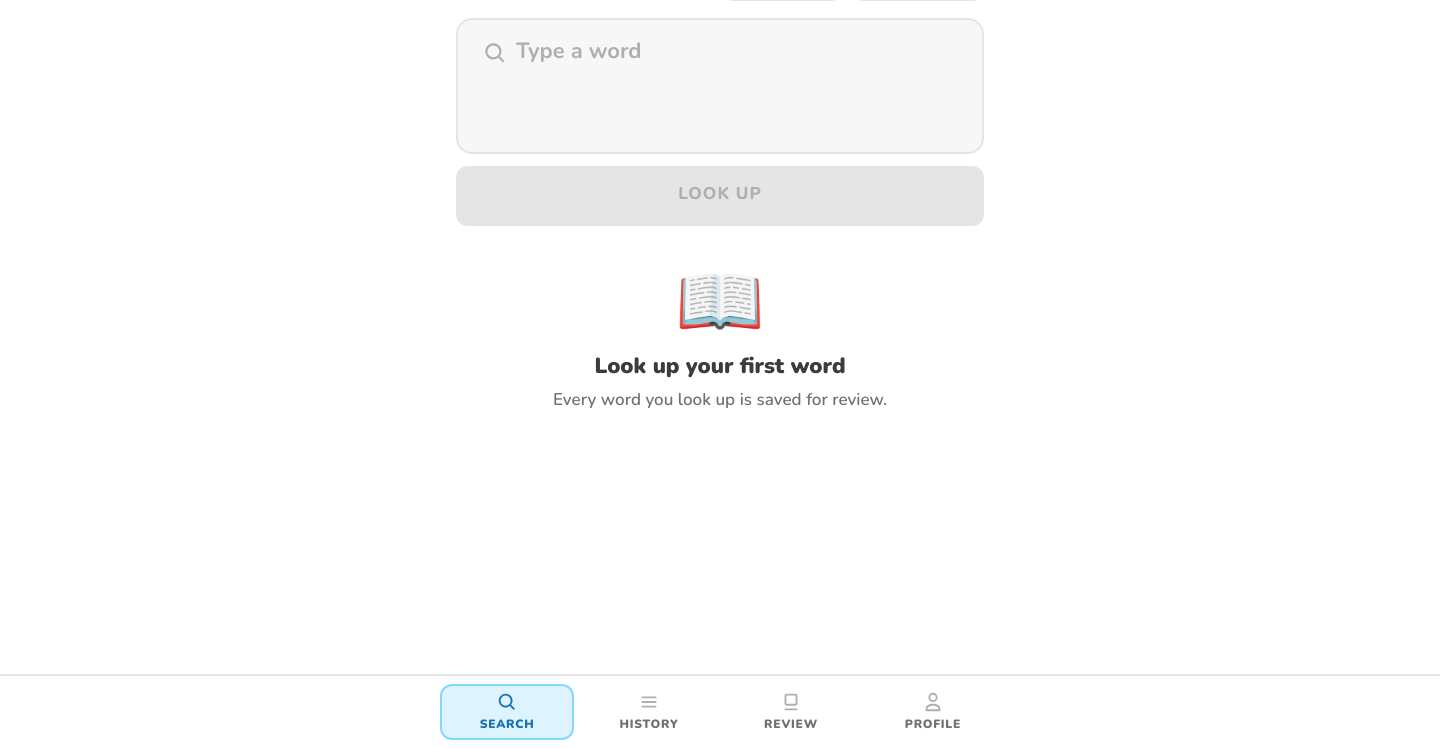
Test: Lexi › shows the dictionary example sentences and copies one into My sentence
In the text box named "Look up an English word": (737, 86) 516,36 -> 958,136, type "calm"
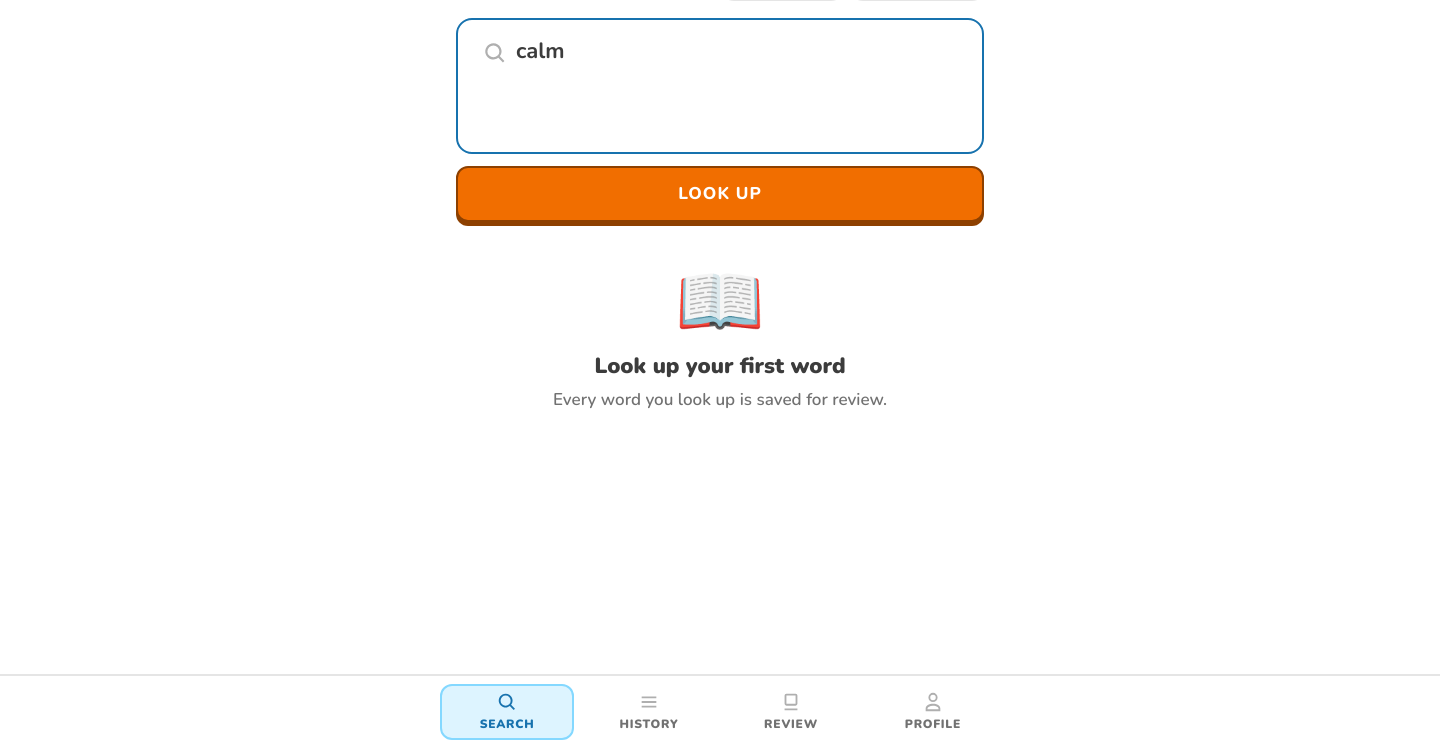
Click the button "Look up": (720, 194) 456,166 -> 984,222
(page scrolled)
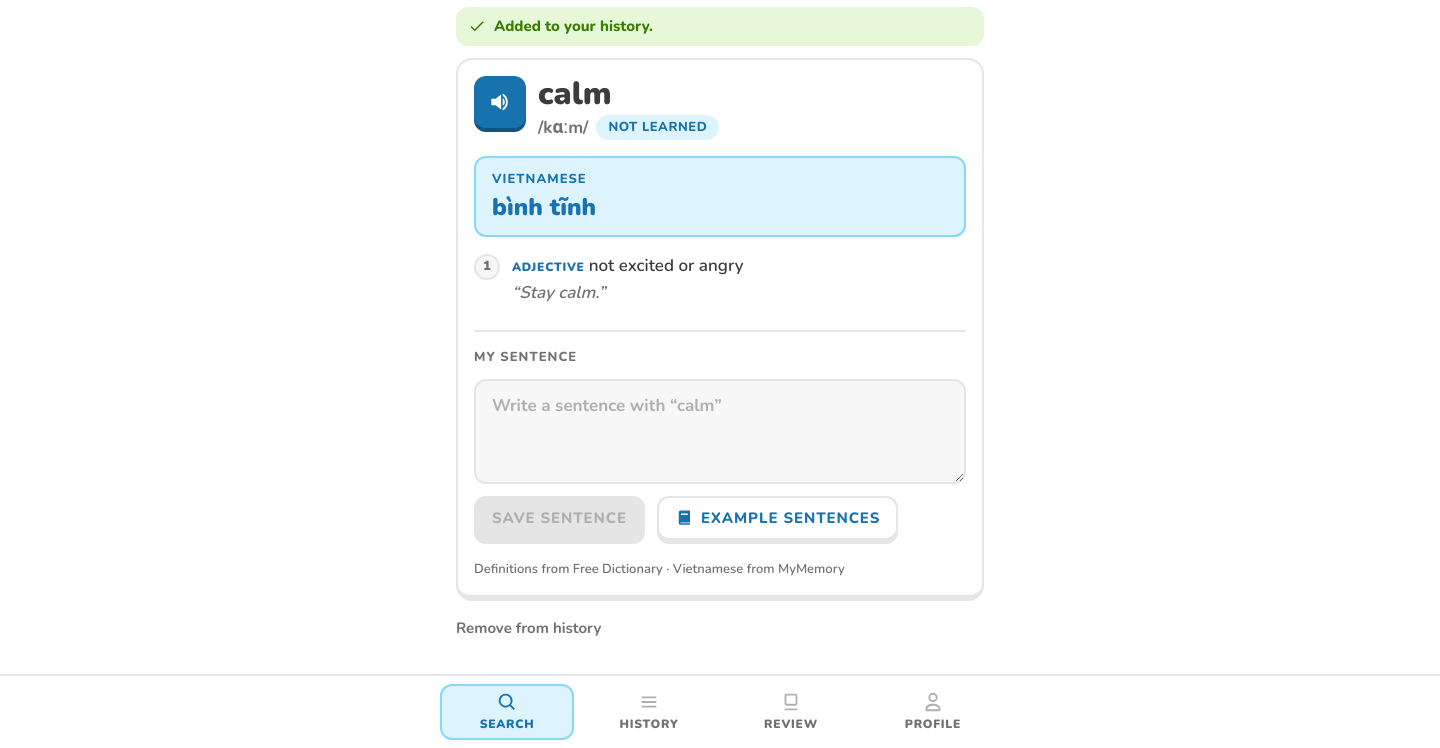
expect the heading "calm" is shown: met, box 538,72 -> 612,114
Click the button "Example sentences": (778, 518) 657,496 -> 898,540
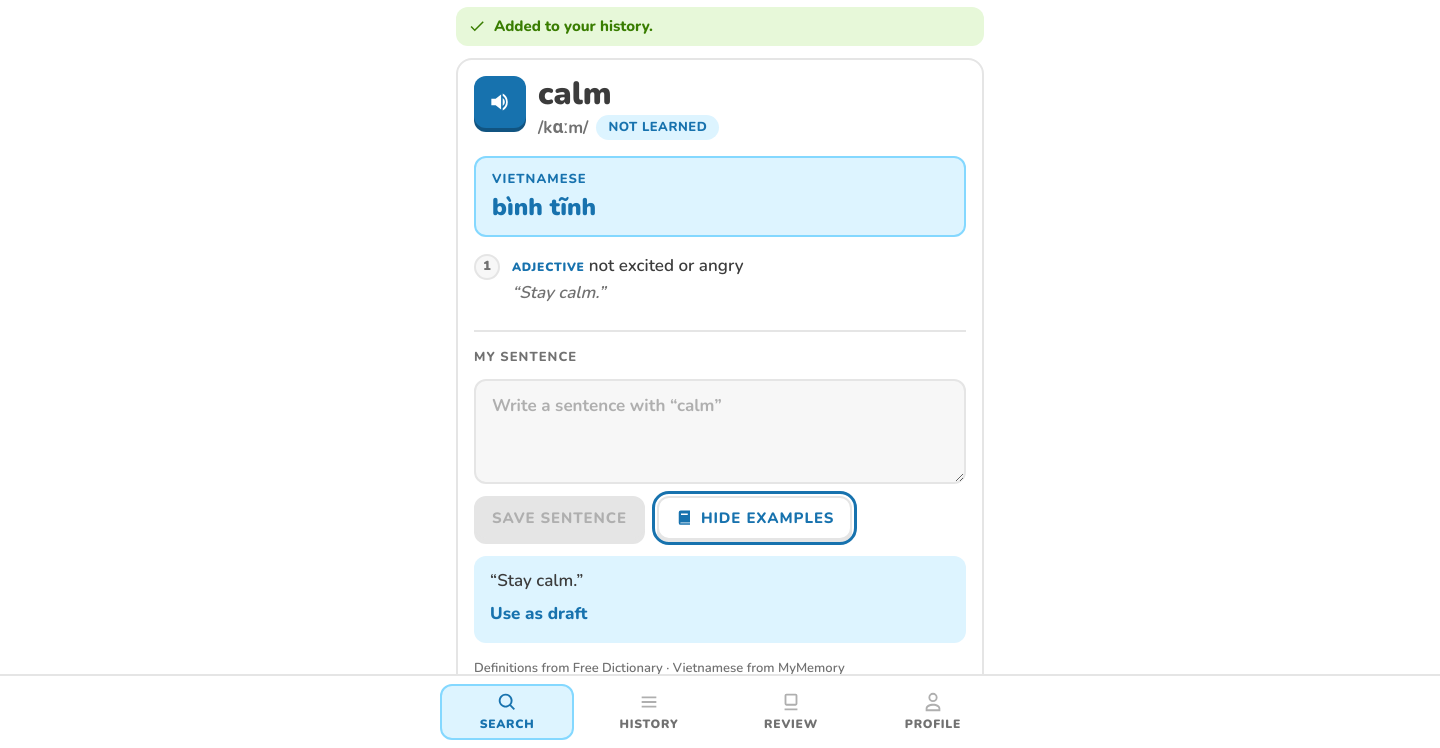
Click the button "Use as draft": (539, 614) 490,597 -> 950,631
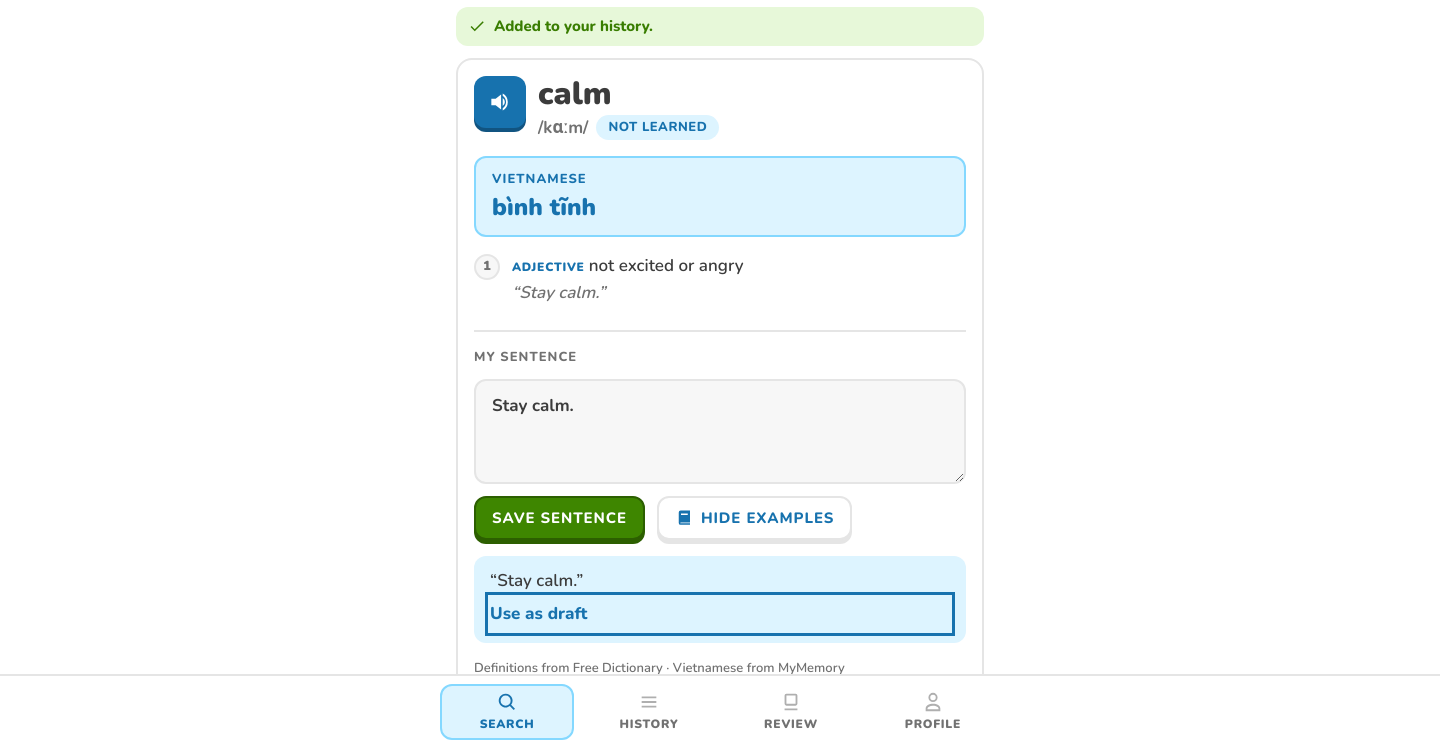
expect the text box labelled "My sentence" holds "Stay calm.": met, box 474,379 -> 966,484
